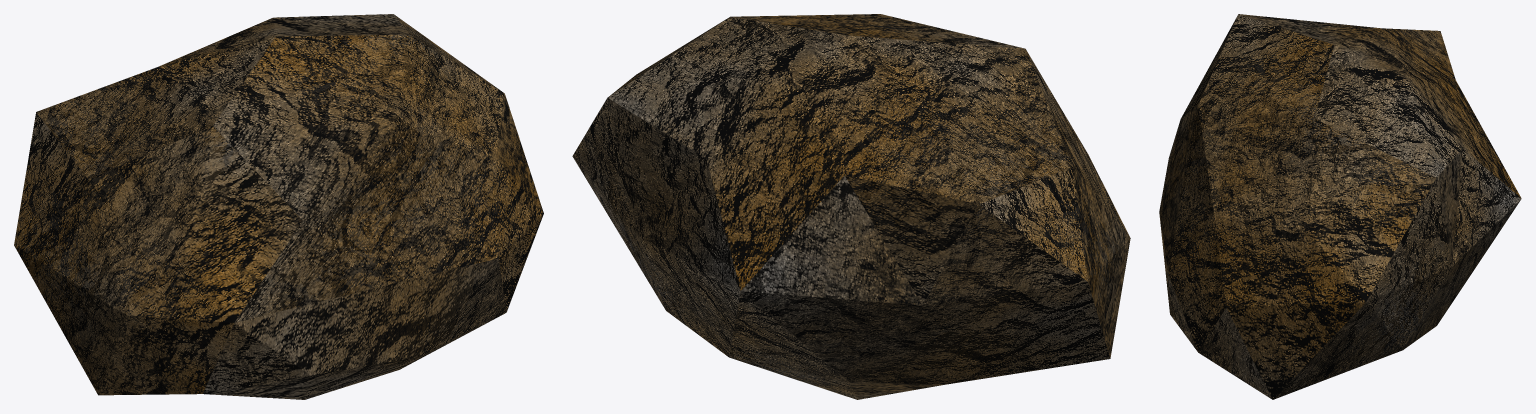
File: smallAsteroid.fbx
The picture shows the model from 3 angles, left to right: view 1: azimuth 30°, elevation 25°; view 2: azimuth 150°, elevation 25°; view 3: azimuth 270°, elevation 25°; orthographic projection. The views are drawn at different scales.
Parts seen in each view (by area): view 1: Icosphere; view 2: Icosphere; view 3: Icosphere.
Boxes of the visible parts, box(x1,y1,x2,y2) form: Icosphere: box(14, 14, 543, 399); Icosphere: box(572, 14, 1130, 399); Icosphere: box(1159, 14, 1521, 399).
Size of the model in its own units: 448 by 296 by 314.
